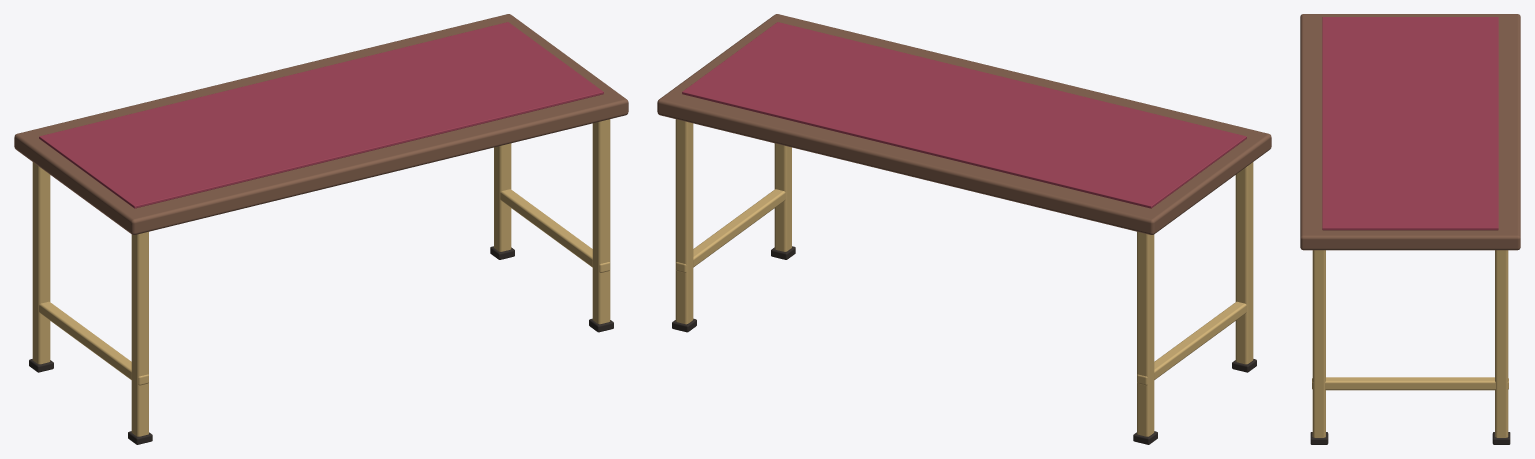
Rendered from griffin-airmail-roost-and-posthouse-parcel-wrapping-be-61caabbc__30523.glb.
3 renders of one model, left to right at view 1: azimuth 30°, elevation 25°; view 2: azimuth 150°, elevation 25°; view 3: azimuth 270°, elevation 25°, orthographic. The views are drawn at different scales.
Visible parts, largest first — view 1: parcel-wrapping-bench; view 2: parcel-wrapping-bench; view 3: parcel-wrapping-bench.
Boxes of the visible parts, x1=… form: parcel-wrapping-bench: x1=14, y1=14, x2=628, y2=444; parcel-wrapping-bench: x1=657, y1=14, x2=1271, y2=444; parcel-wrapping-bench: x1=1300, y1=14, x2=1520, y2=444.
Bounding box in the file's own units: 1.8 × 0.8089 × 0.75.
